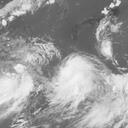cyclone: (49, 52, 96, 106)
